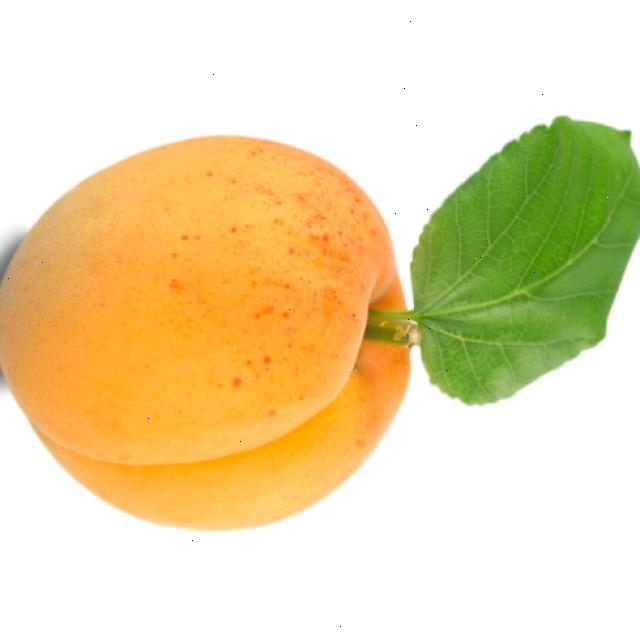kayisi: (1, 120, 412, 538)
kayisi yapragi: (417, 109, 640, 418)
